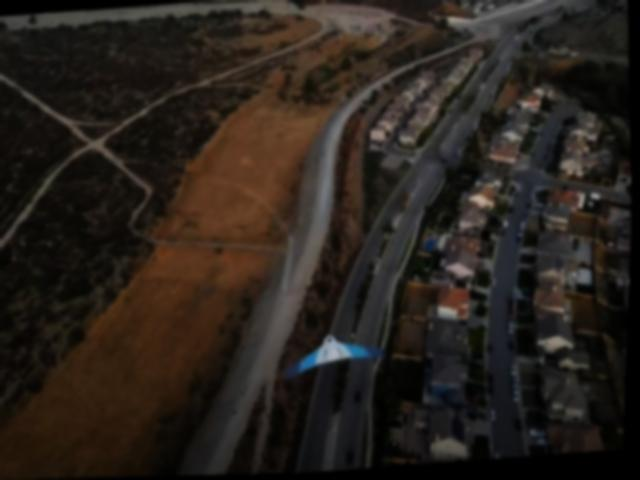iha: (287, 332, 389, 382)
